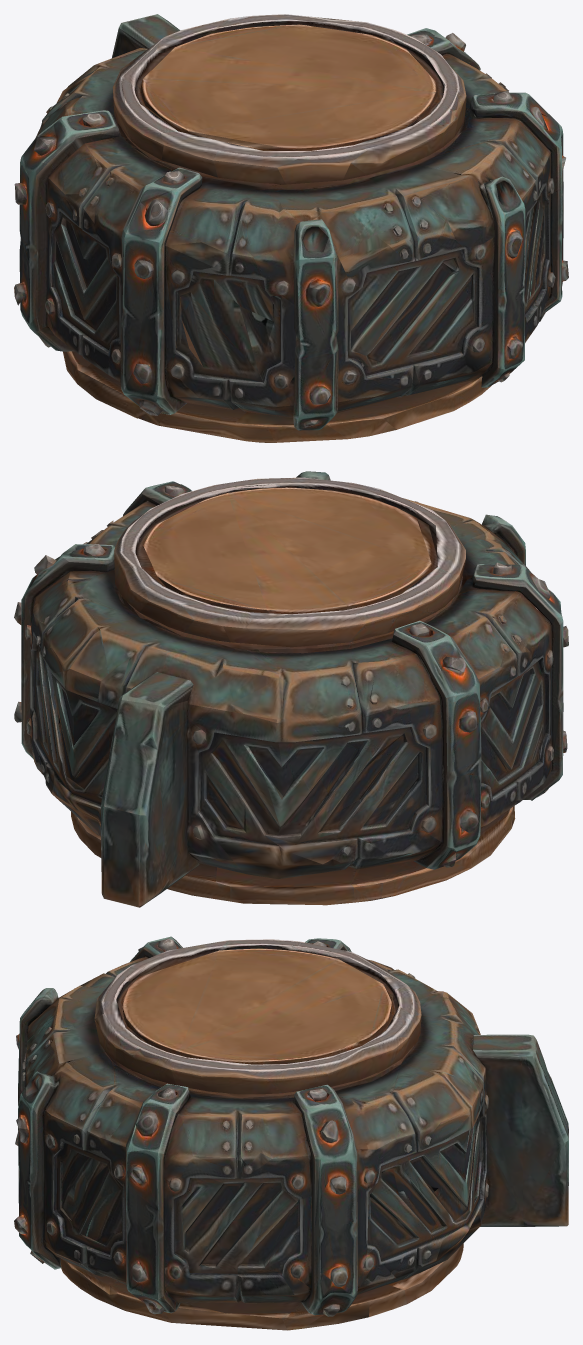
The model's file is 01_base_plate.glb.
3 renders of one model, top to bottom at view 1: azimuth 30°, elevation 25°; view 2: azimuth 150°, elevation 25°; view 3: azimuth 270°, elevation 25°, orthographic. The views are drawn at different scales.
Visible parts, largest first — view 1: output_unwrapped; view 2: output_unwrapped; view 3: output_unwrapped.
Boxes of the visible parts, bbox=[...] form: output_unwrapped: bbox=[14, 14, 568, 442]; output_unwrapped: bbox=[14, 471, 568, 907]; output_unwrapped: bbox=[14, 936, 568, 1330].
Bounding box in the file's own units: 1.68 × 0.9086 × 1.89.
1 material, 1 textured.
